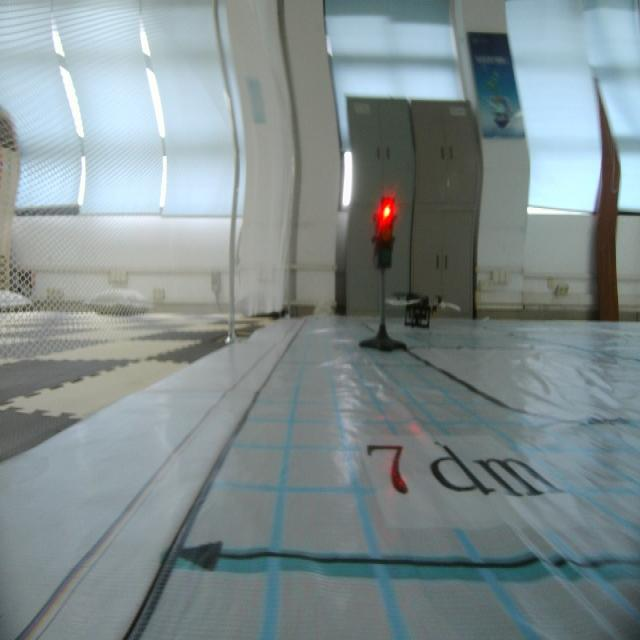red: (372, 193, 398, 279)
